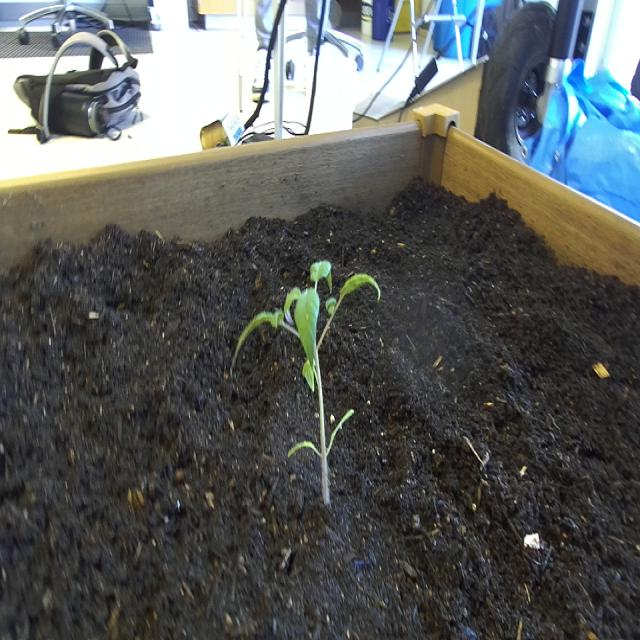Healthy: (226, 251, 384, 518)
